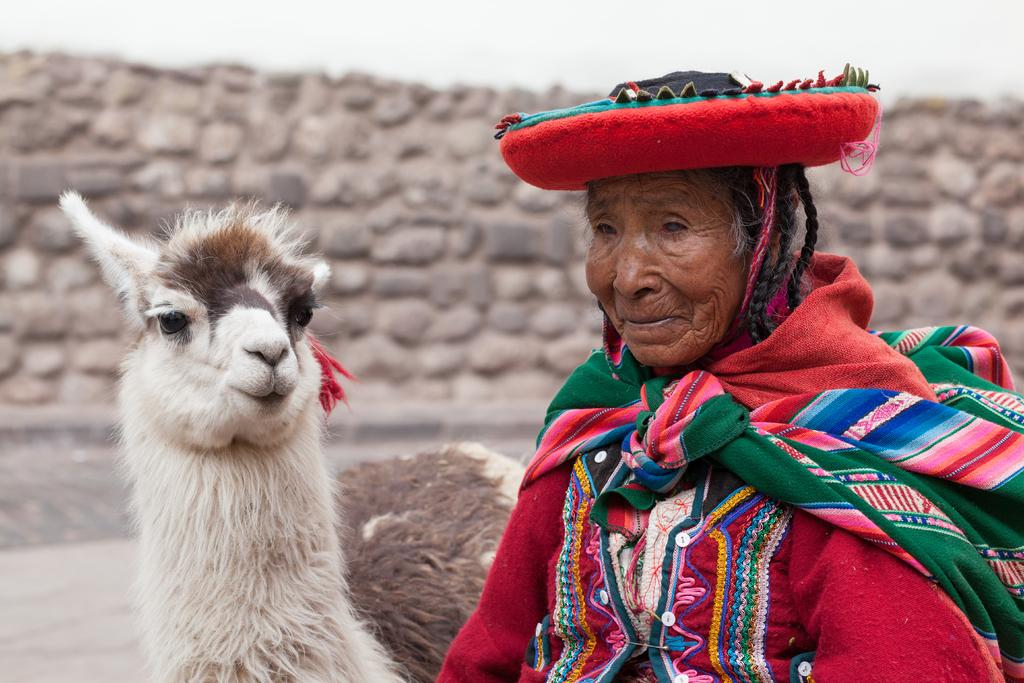Hat: (494, 64, 881, 191)
